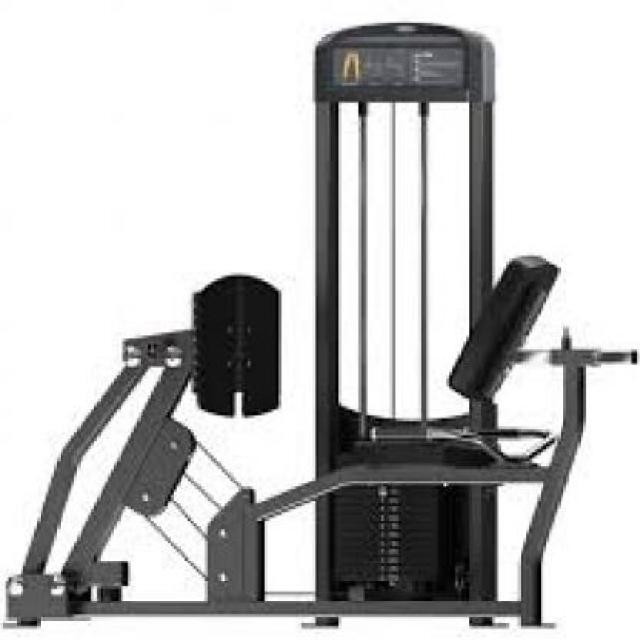leg press: (11, 7, 640, 640)
